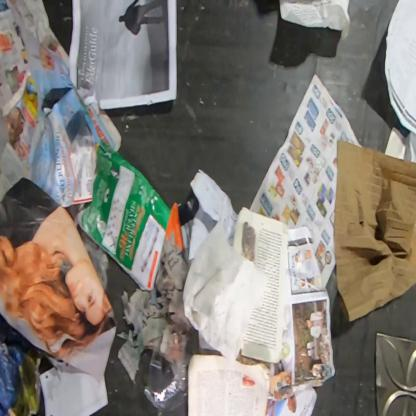cardboard: (333, 137, 415, 322), (76, 139, 171, 292), (0, 313, 66, 415), (160, 196, 200, 264)
metal: (375, 331, 415, 415)
rigid_plastic: (143, 334, 194, 412)
